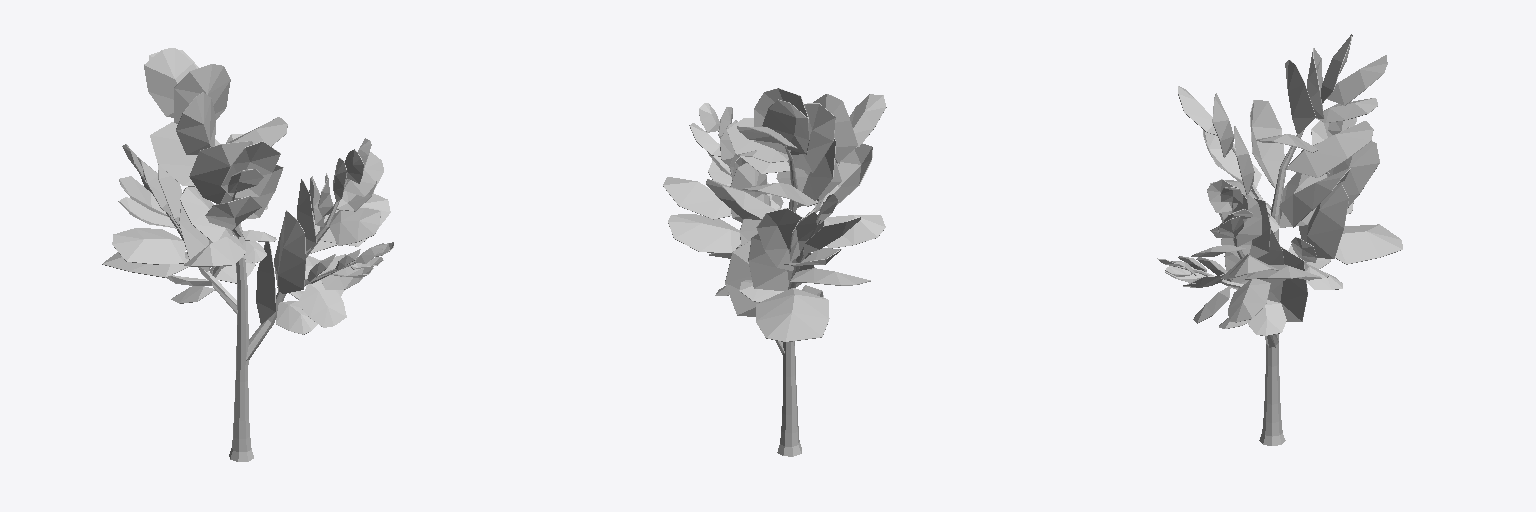
The model's file is TreeC.obj.
The picture shows the model from 3 angles: view 1: azimuth 30°, elevation 25°; view 2: azimuth 150°, elevation 25°; view 3: azimuth 270°, elevation 25°; orthographic projection.
Visible parts, largest first — view 1: Plane; view 2: Plane; view 3: Plane.
Boxes of the visible parts, <box> form: Plane: <box>102,48,393,461</box>; Plane: <box>663,88,886,456</box>; Plane: <box>1157,34,1402,445</box>.
Size of the model in its own units: 5 by 7.96 by 4.59.